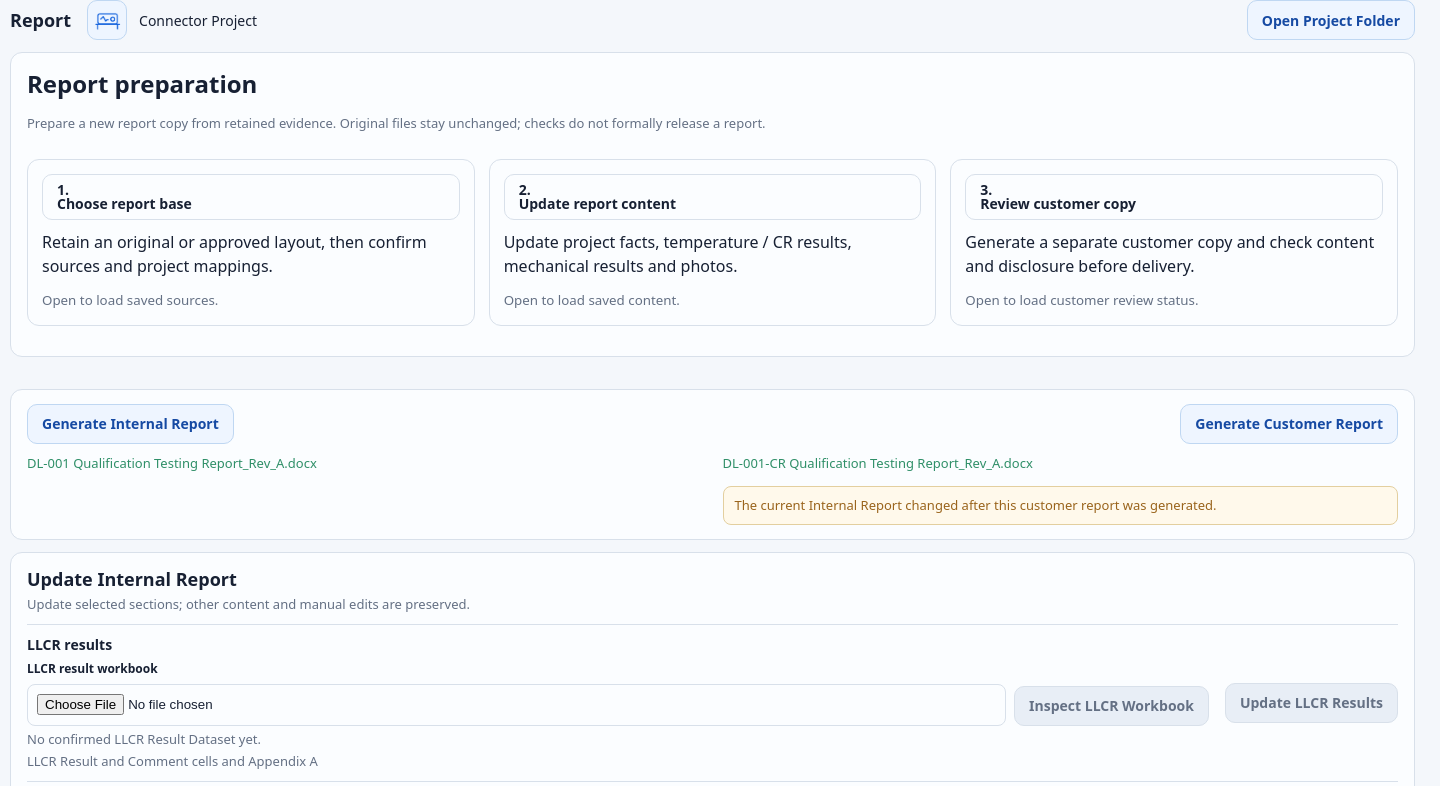
it: ReportWorkspace › keeps the current filename and actionable failure then obtains a new preview for retry
Click the button "Generate Internal Report".
click(130, 424)  # box [27, 404, 234, 444]
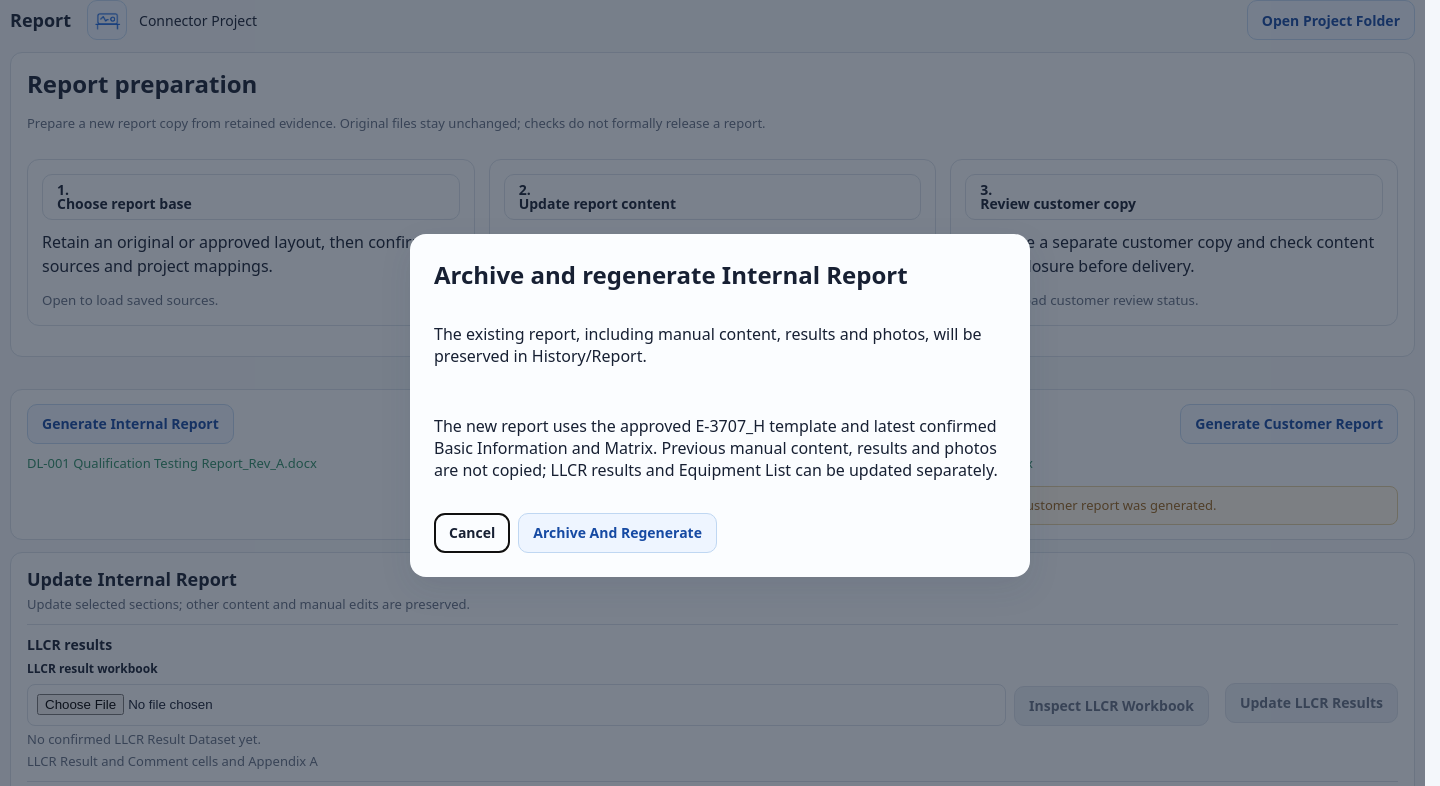
Click the button "Archive And Regenerate".
click(618, 532)  # box [518, 512, 717, 552]
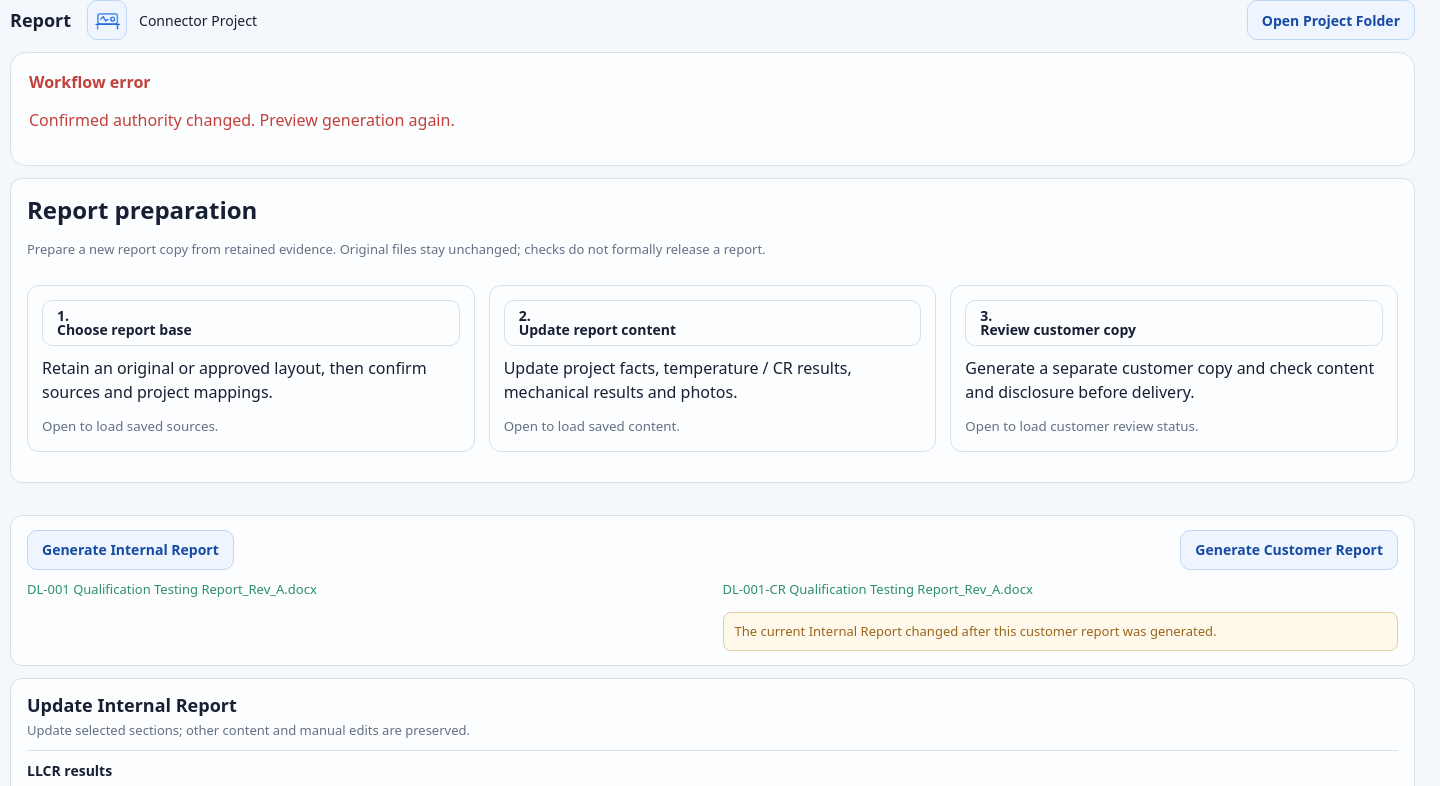
Expected: the text "DL-001 Qualification Testing Report_Rev_A.docx" is shown, [27, 580, 317, 598]
Result: the message shows "Confirmed authority changed. Preview generation again." at [29, 109, 455, 131]
Result: the heading "Archive and regenerate Internal Report" is gone
Click the button "Generate Internal Report".
click(130, 550)  # box [27, 530, 234, 570]
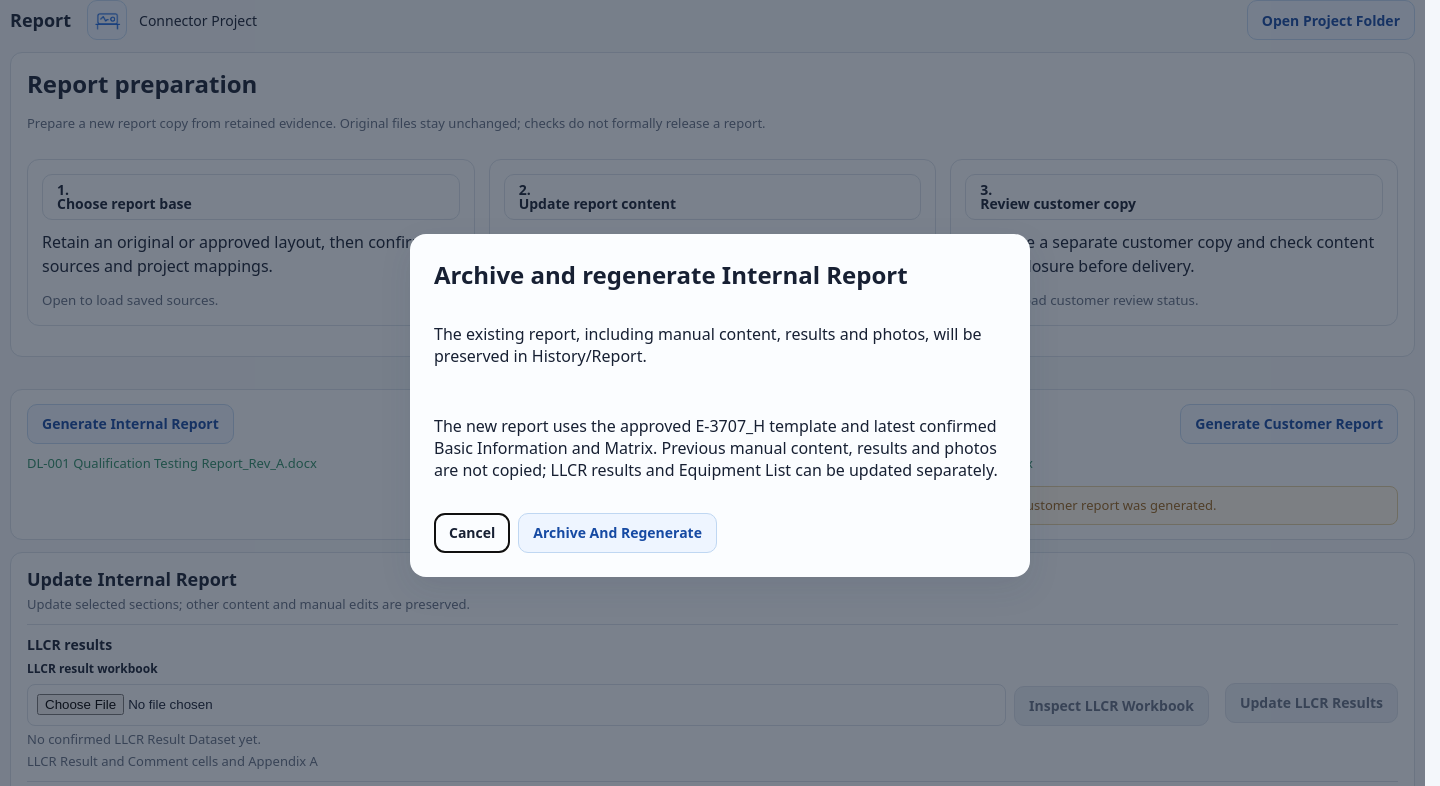
Result: the button "Archive And Regenerate" is shown at [518, 512, 717, 552]
